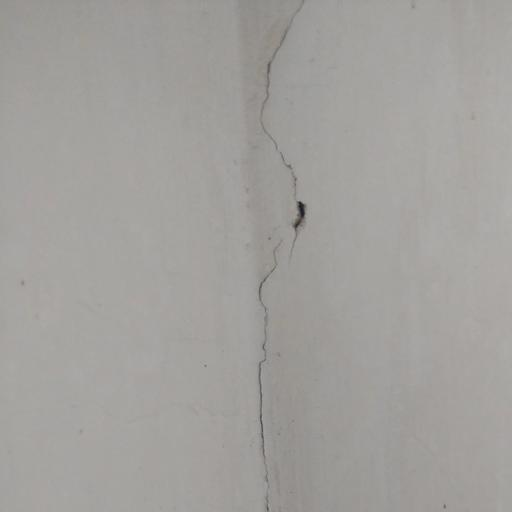minor_crack: (241, 1, 316, 512)
